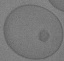small: (39, 31, 48, 42)
